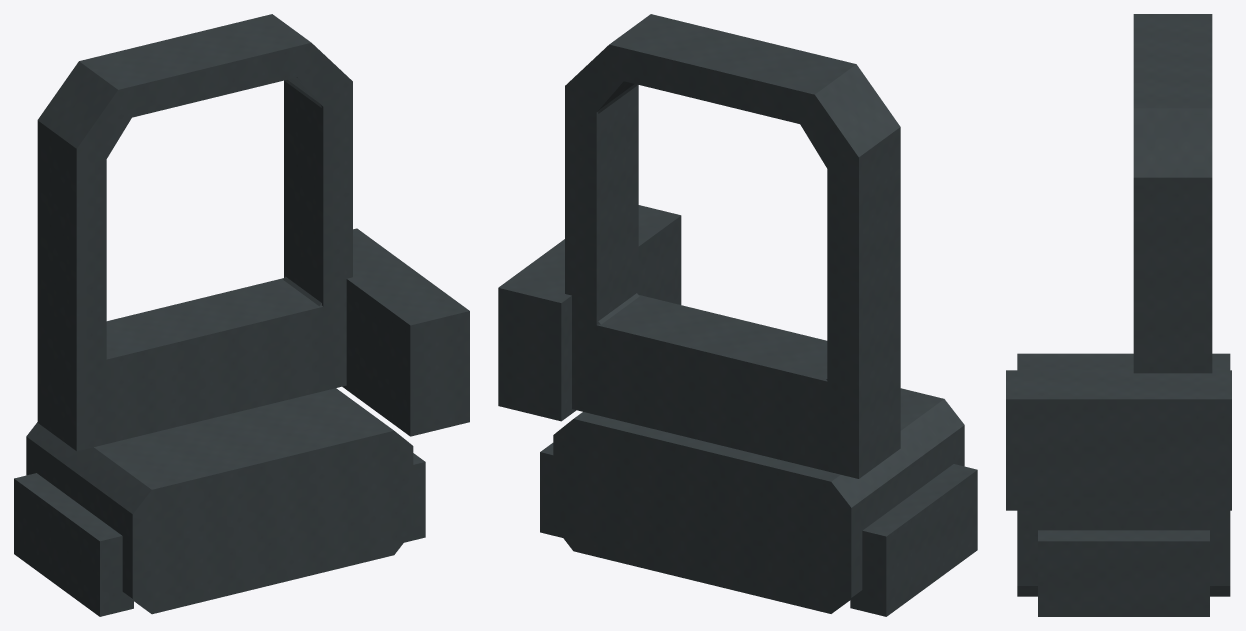
File: red_dot.glb
The picture shows the model from 3 angles, left to right: view 1: azimuth 30°, elevation 25°; view 2: azimuth 150°, elevation 25°; view 3: azimuth 270°, elevation 25°; orthographic projection. The views are drawn at different scales.
Visible parts, largest first — view 1: red_dot_foot, red_dot_foot.001; view 2: red_dot_foot, red_dot_foot.001; view 3: red_dot_foot, red_dot_foot.001.
Part boxes in pixels (<box>): red_dot_foot: <box>14,16,469,616</box>; red_dot_foot.001: <box>37,14,352,451</box>; red_dot_foot: <box>498,16,977,616</box>; red_dot_foot.001: <box>565,14,900,478</box>; red_dot_foot: <box>1006,15,1231,616</box>; red_dot_foot.001: <box>1133,14,1212,373</box>.
Size of the model in its own units: 0.0833 by 0.107 by 0.046.
1 material, 1 textured.
